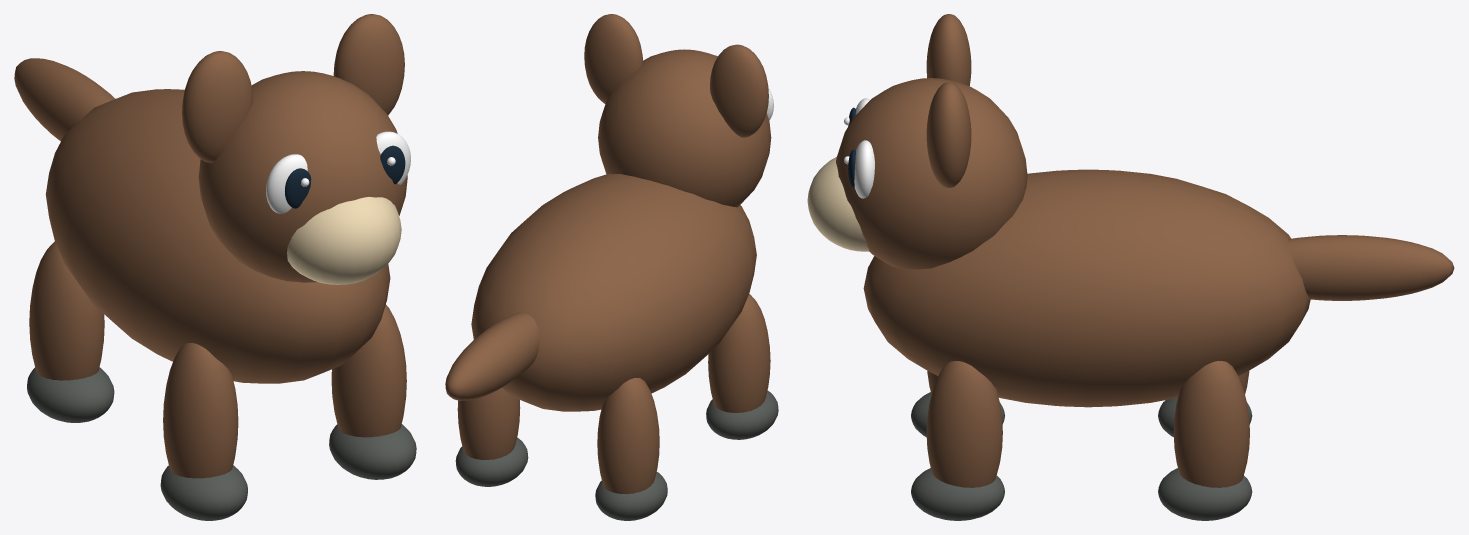
The model's file is pet-monkey.glb.
The picture shows the model from 3 angles, left to right: view 1: azimuth 30°, elevation 25°; view 2: azimuth 150°, elevation 25°; view 3: azimuth 270°, elevation 25°; orthographic projection. The views are drawn at different scales.
Parts seen in each view (by area): view 1: monkey, leg-10.55, leg-1-0.55, leg10.55, tail; view 2: monkey, leg-1-0.55, leg-10.55, leg1-0.55, tail; view 3: monkey, leg10.55, leg1-0.55, tail, leg-10.55, leg-1-0.55.
Boxes of the visible parts, x1,y1,x2,y2 form: monkey: (45, 14, 410, 383); leg-10.55: (160, 343, 247, 520); leg-1-0.55: (27, 241, 114, 422); leg10.55: (329, 304, 416, 479); tail: (14, 58, 115, 141); monkey: (471, 14, 773, 411); leg-1-0.55: (595, 378, 667, 520); leg-10.55: (706, 294, 778, 439); leg1-0.55: (455, 388, 528, 486); tail: (445, 312, 539, 400); monkey: (807, 14, 1310, 407); leg10.55: (911, 361, 1004, 520); leg1-0.55: (1158, 361, 1252, 520); tail: (1288, 235, 1454, 300); leg-10.55: (911, 370, 1004, 437); leg-1-0.55: (1158, 371, 1252, 437).
Size of the model in its own units: 1.16 by 2.1 by 2.88.
